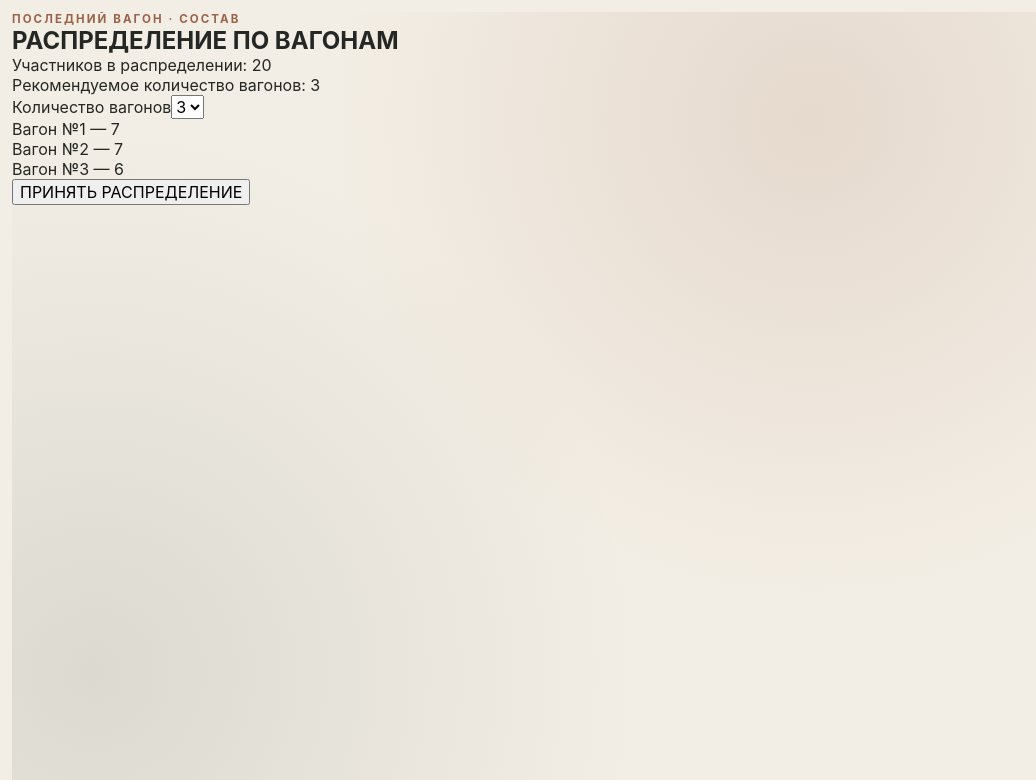
Test case: AdminCarriageDistribution › lets the owner choose another supported scale and previews the new balance
The width and height of the screenshot is (1036, 780).
Select "2" in the dropdown labelled "Количество вагонов" at (188, 107), box [171, 95, 204, 119]
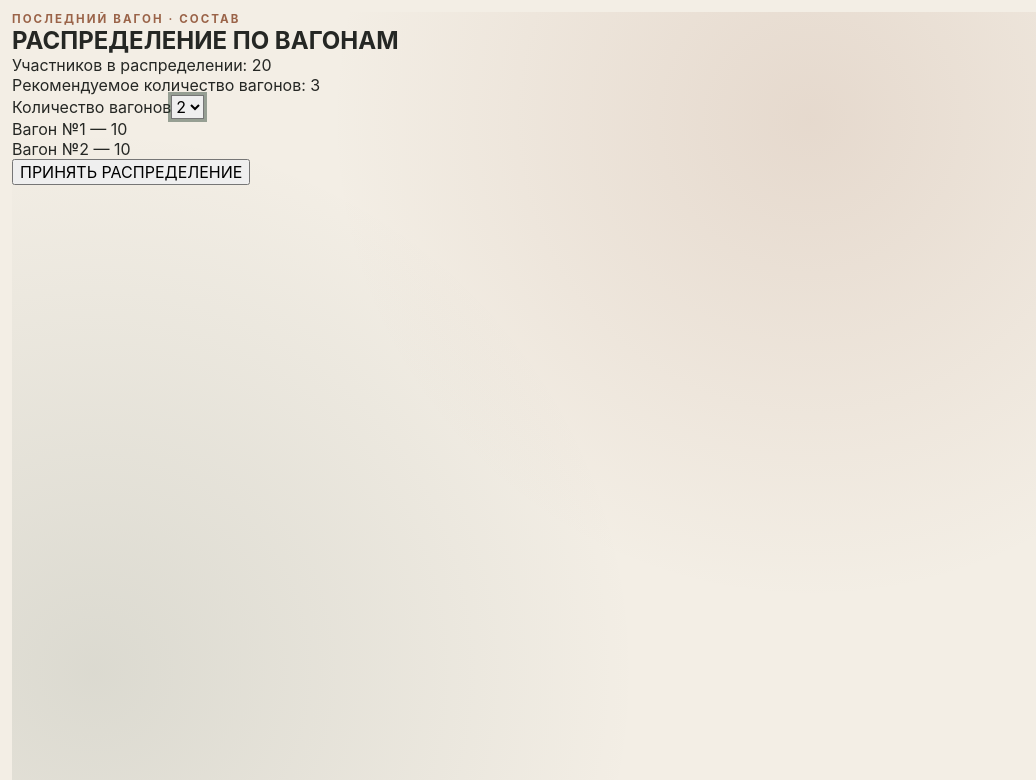
expect the text "Вагон №1 — 10" is shown: met, box [12, 119, 127, 139]
expect the text "Вагон №2 — 10" is shown: met, box [12, 139, 130, 159]
expect the text "Вагон №3 — 6" is gone: met
